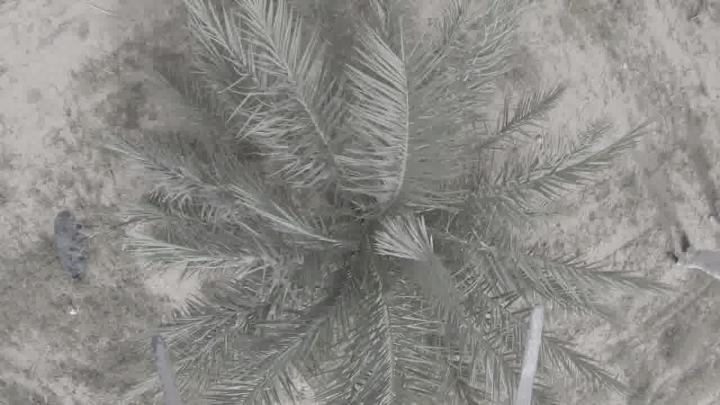Date-Palm-Crown: (238, 68, 518, 370)
